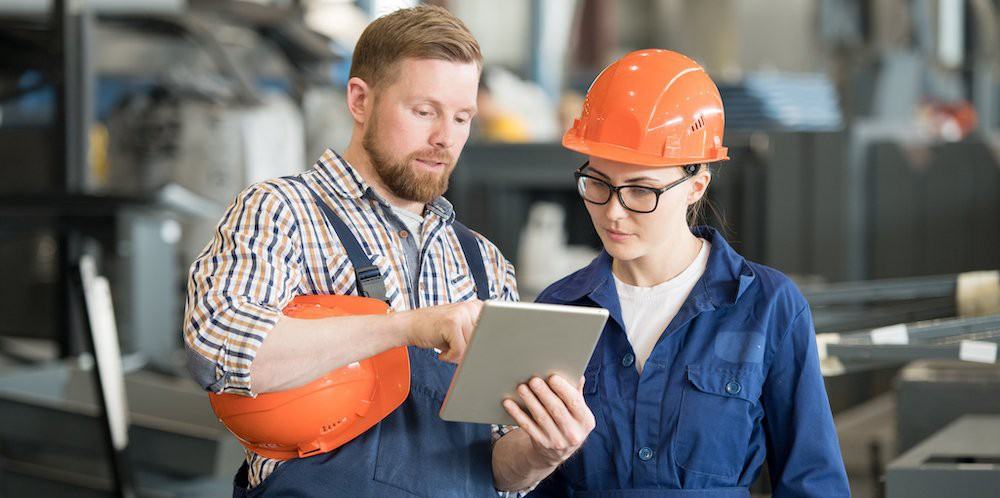person: (183, 6, 594, 498), (530, 49, 852, 498)
